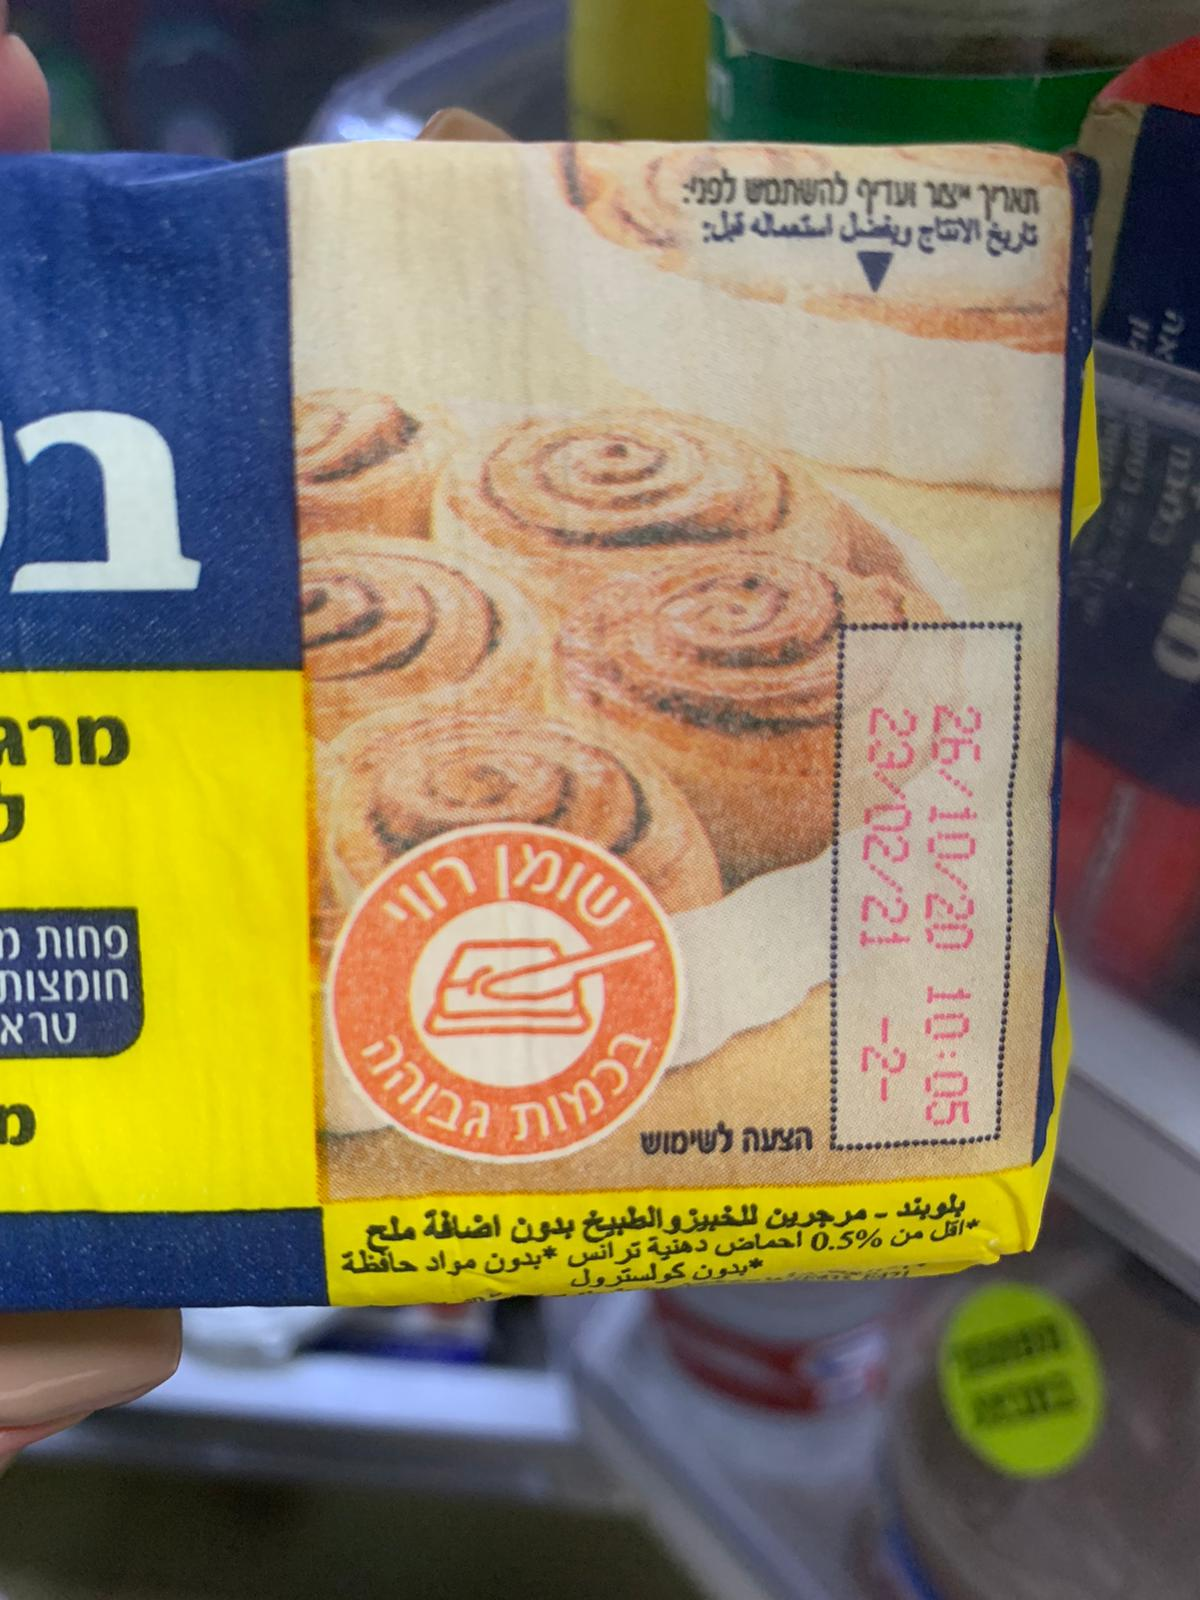fat: (326, 818, 687, 1168)
